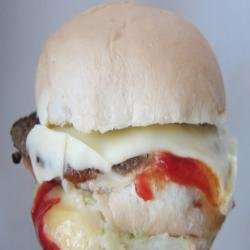burger: (20, 3, 235, 250)
